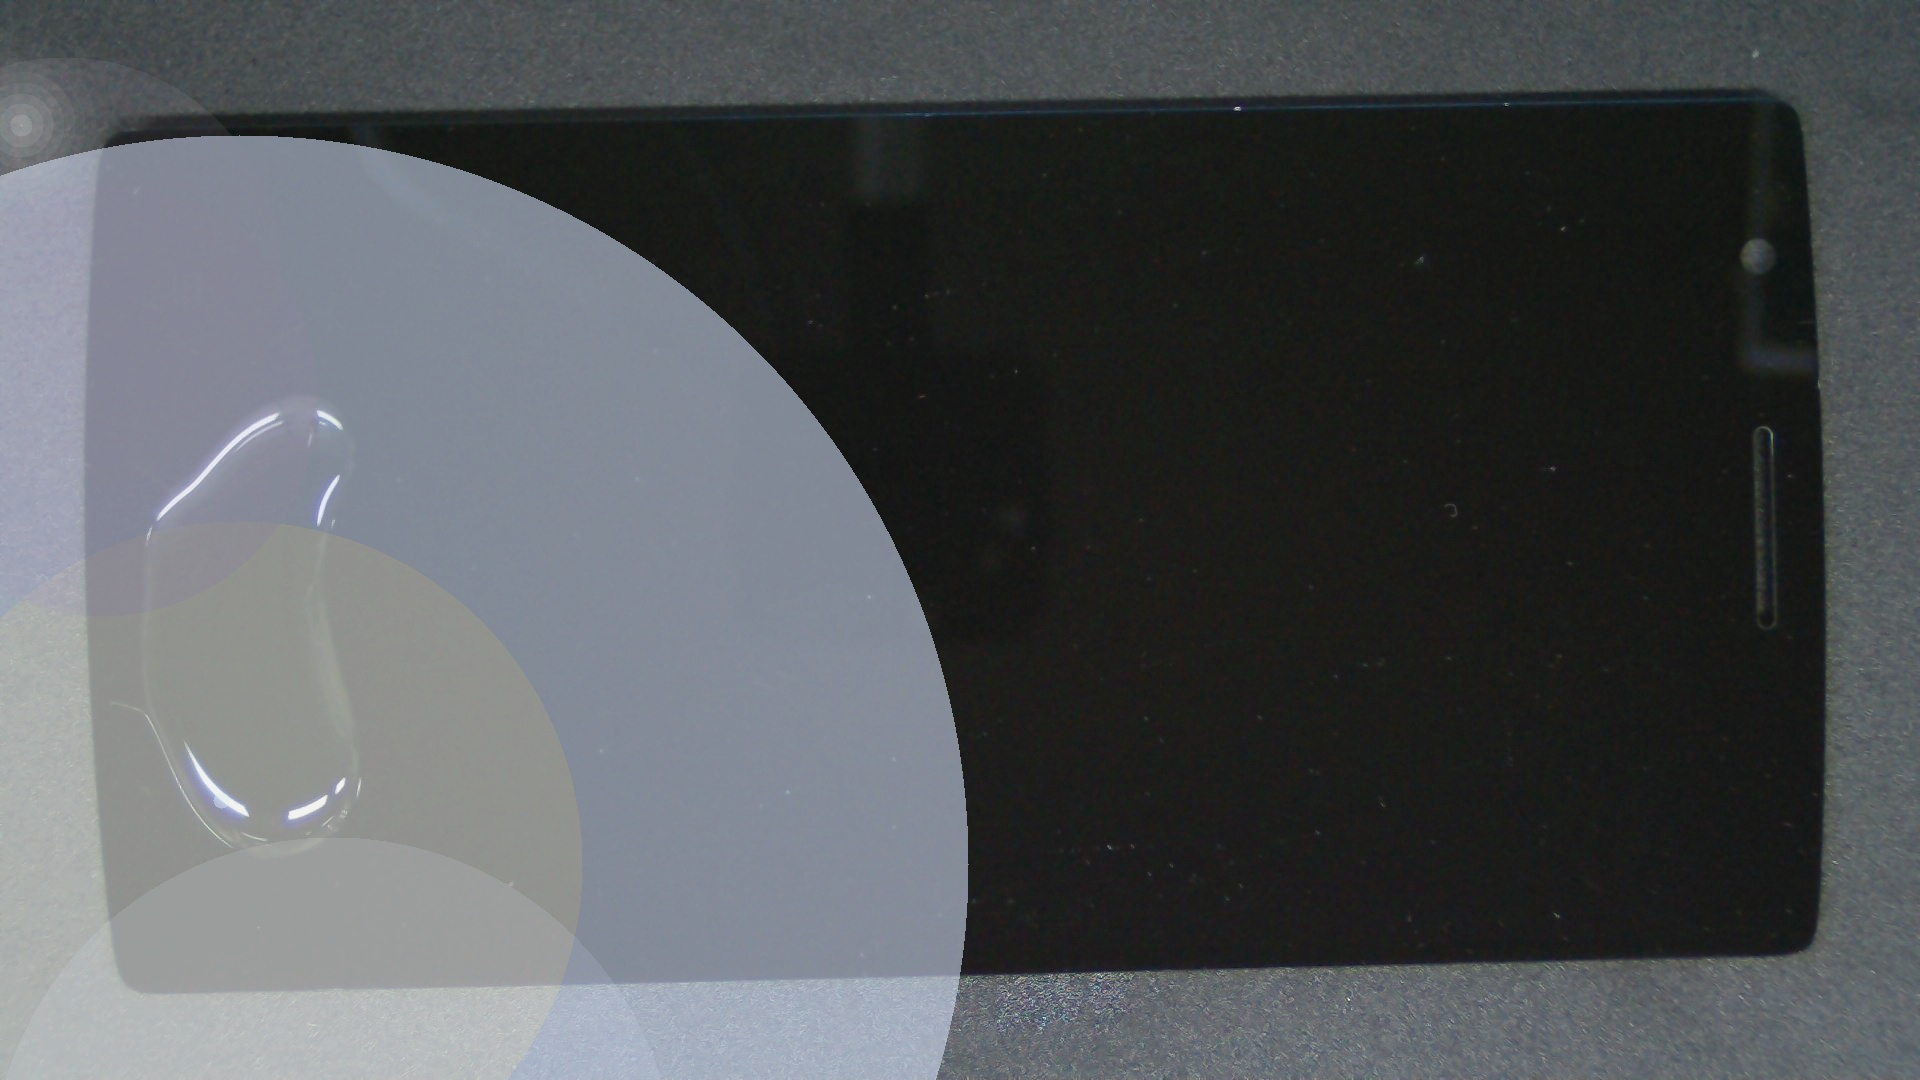oil: (150, 196, 448, 589)
